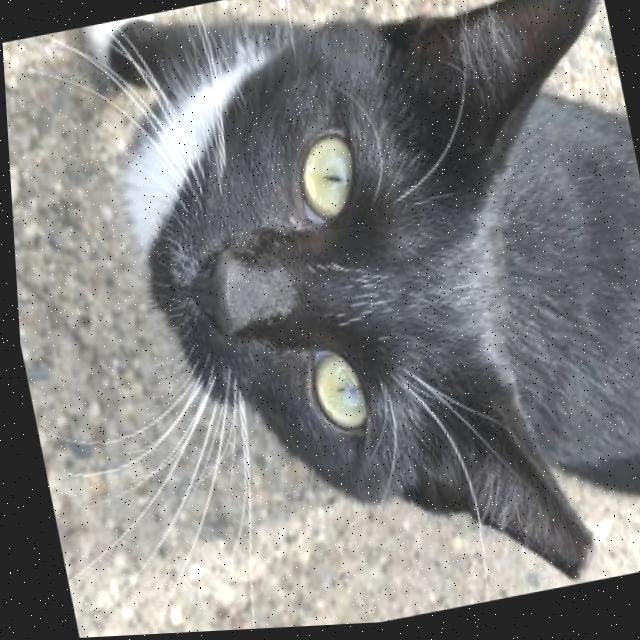Tuxedo: (65, 0, 640, 637)
